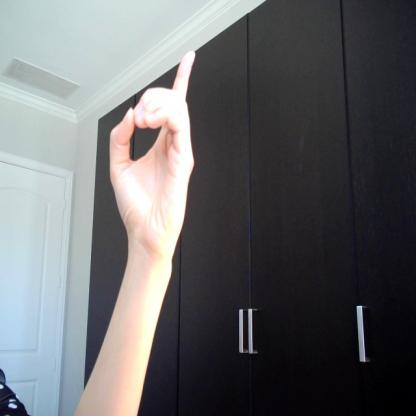D: (107, 47, 200, 239)
